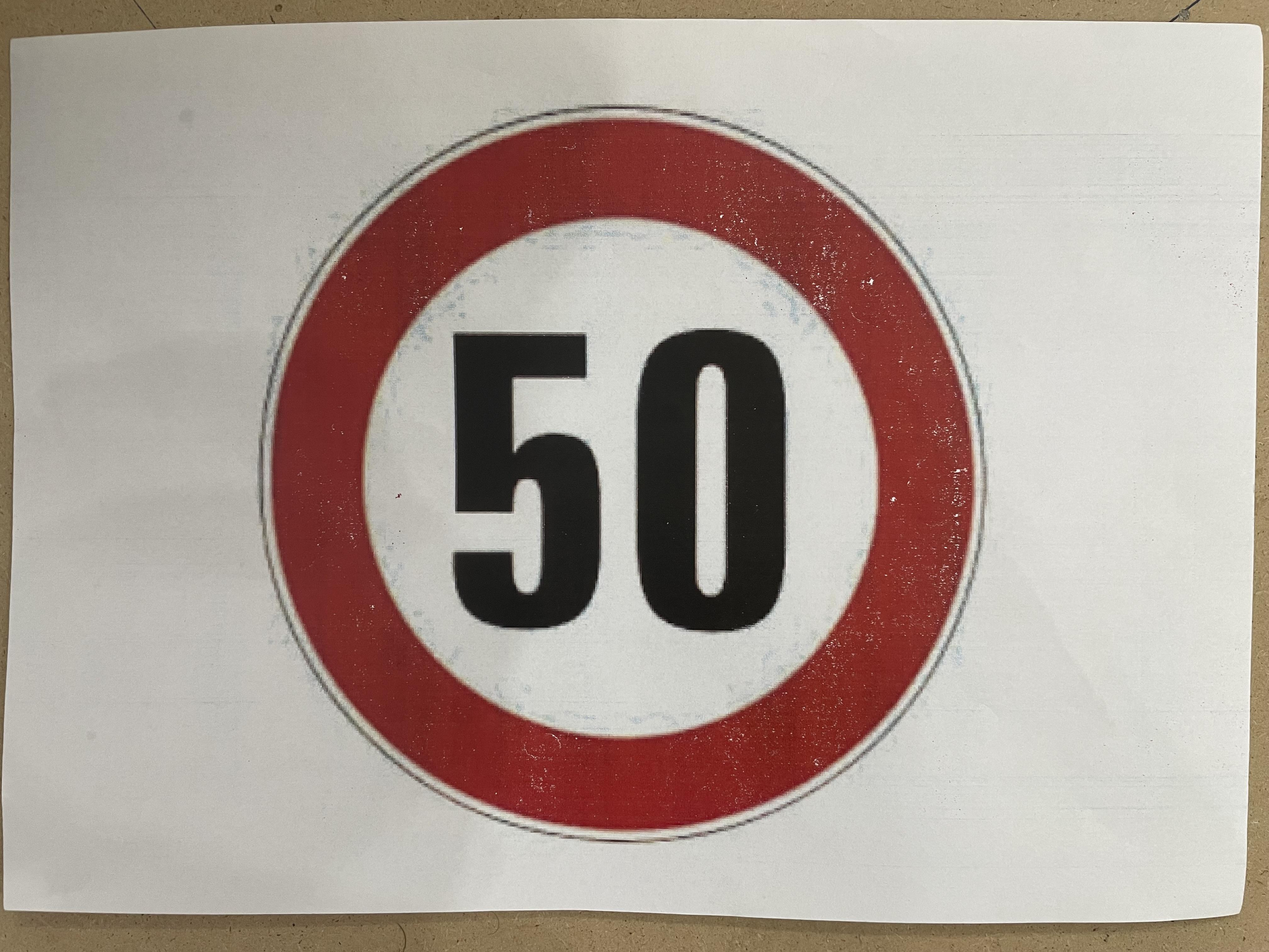50-Speed: (269, 93, 1031, 860)
